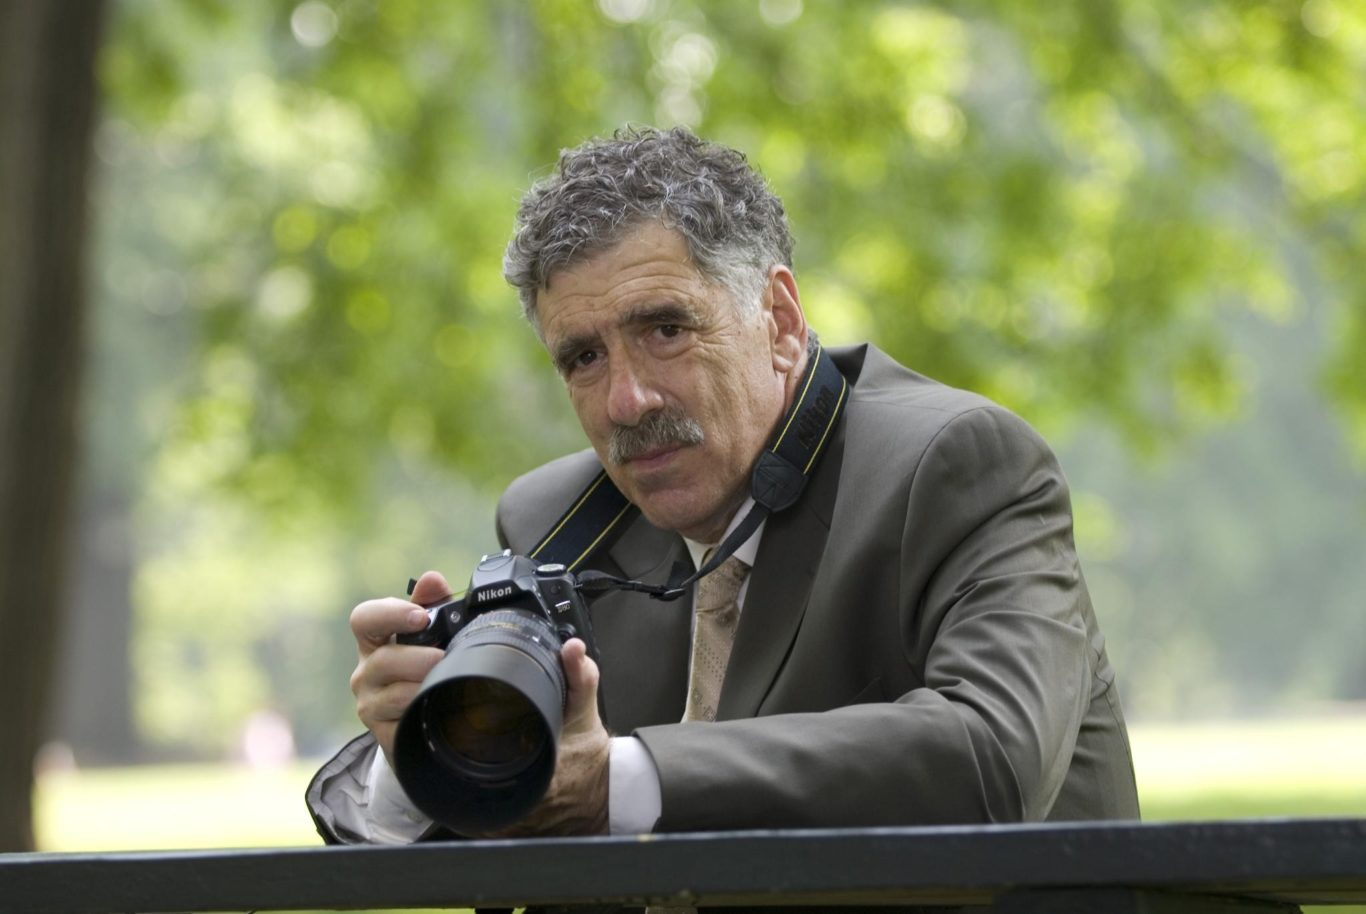bad: (538, 291, 761, 514)
